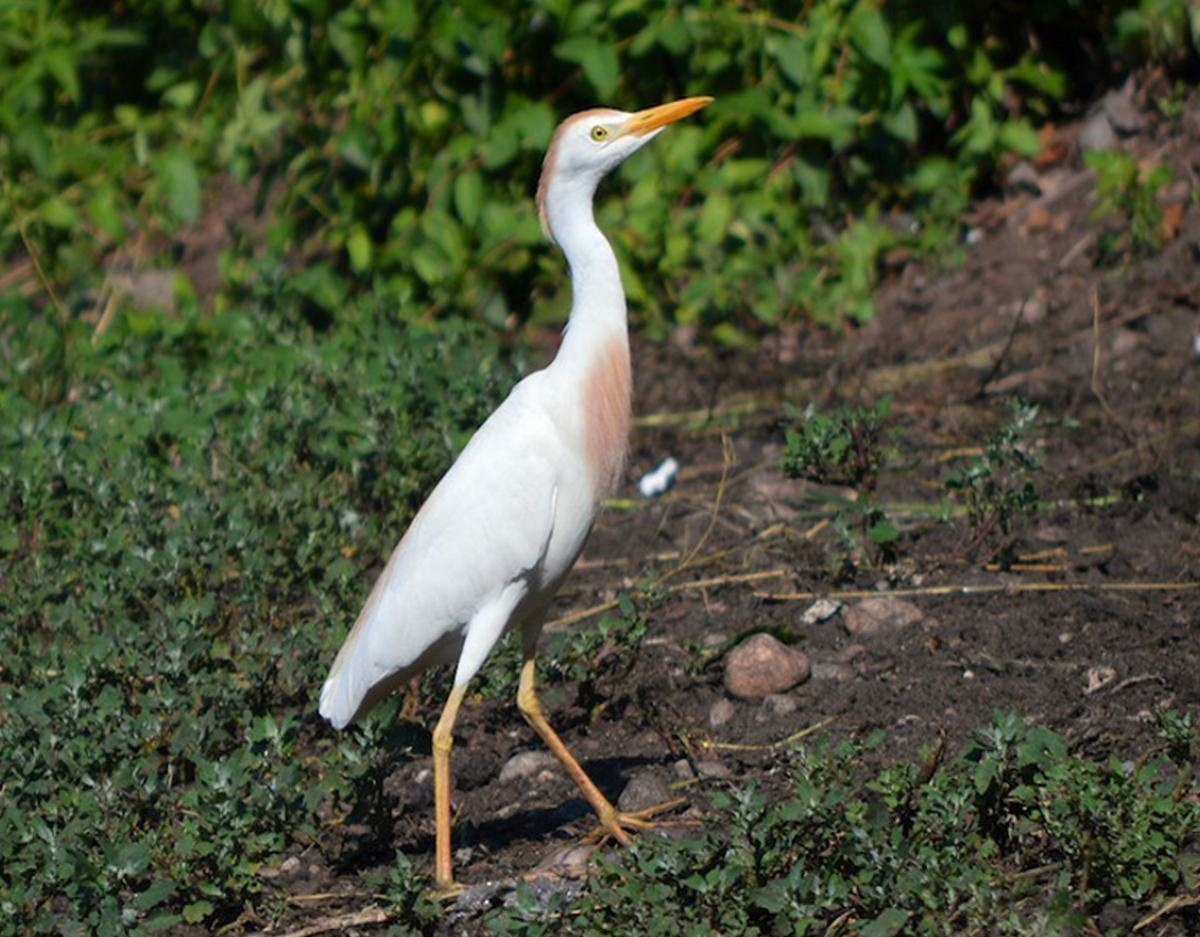egret: (322, 84, 727, 891)
